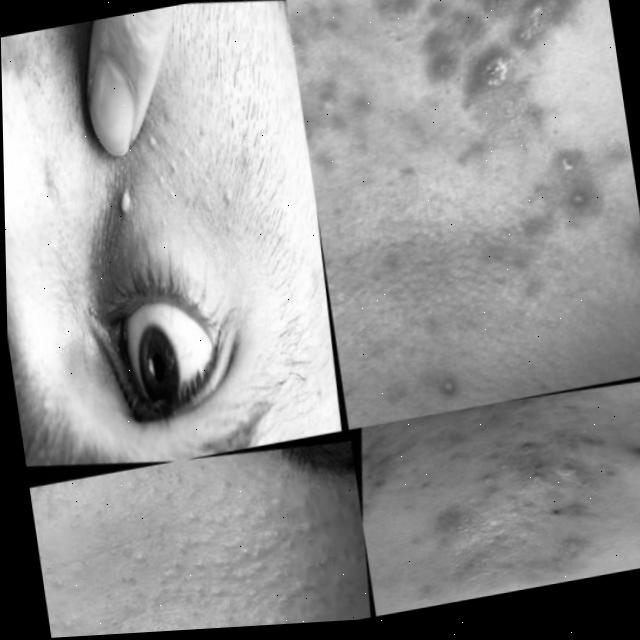Acne: (390, 0, 626, 275), (421, 435, 606, 605), (99, 179, 134, 224)
